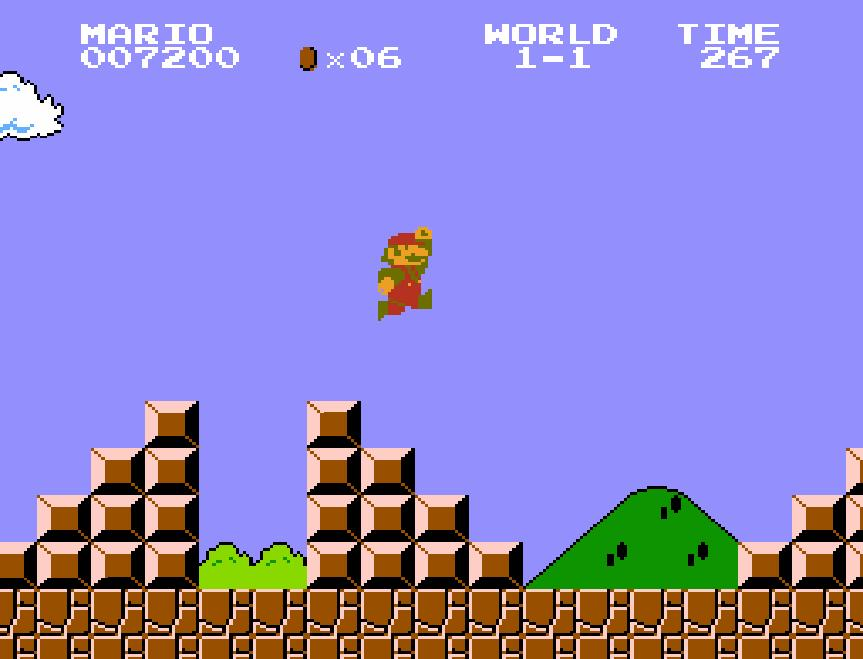big_mario: (376, 224, 434, 322)
